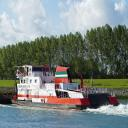tugboat: (12, 65, 122, 115)
